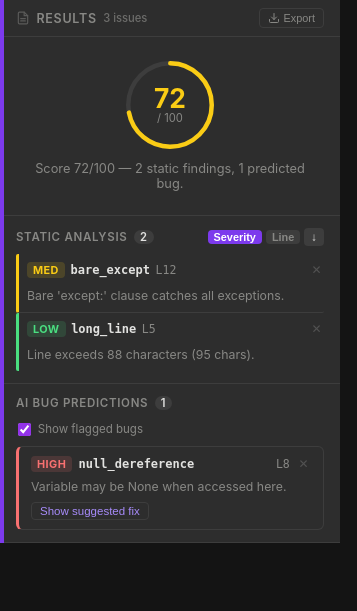
ResultsPanel — predicted bugs section › collapses suggested fix on second click
The image size is (357, 611).
Click the button "Show suggested fix".
click(90, 510)  # box [31,502,149,520]
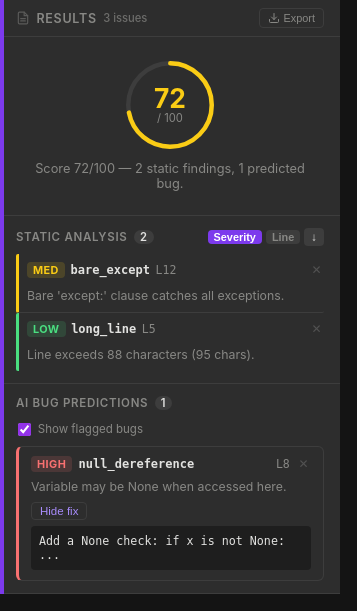
Click the button "Hide fix".
click(59, 510)  # box [31,502,87,520]
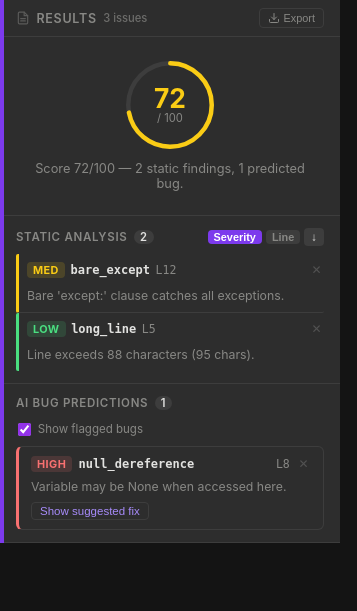
Expected: the text "Add a None check" is gone
